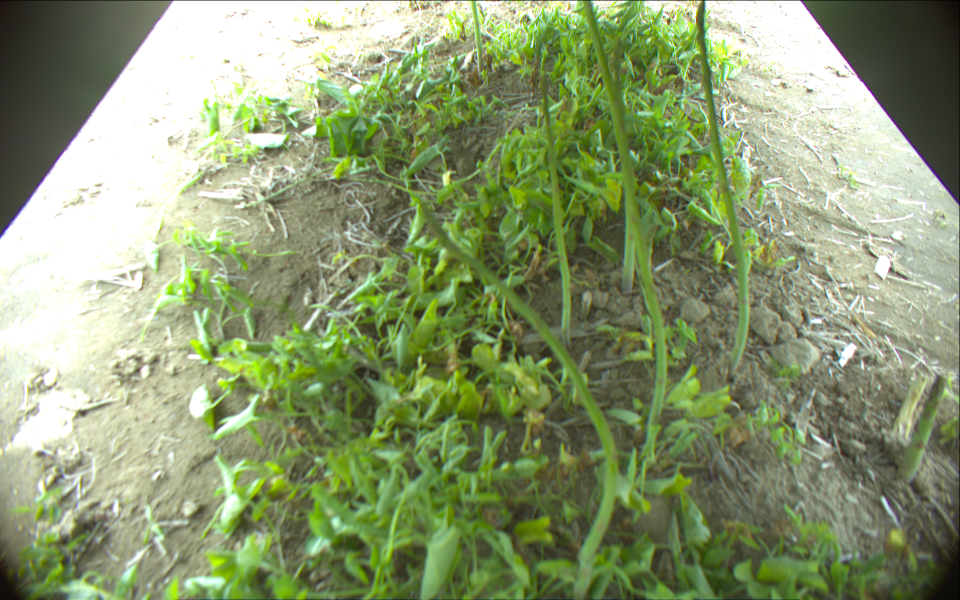aspa: (415, 192, 620, 563), (581, 1, 669, 459), (694, 1, 751, 374), (540, 70, 572, 347), (612, 34, 638, 294), (899, 371, 947, 479), (470, 1, 484, 77)
